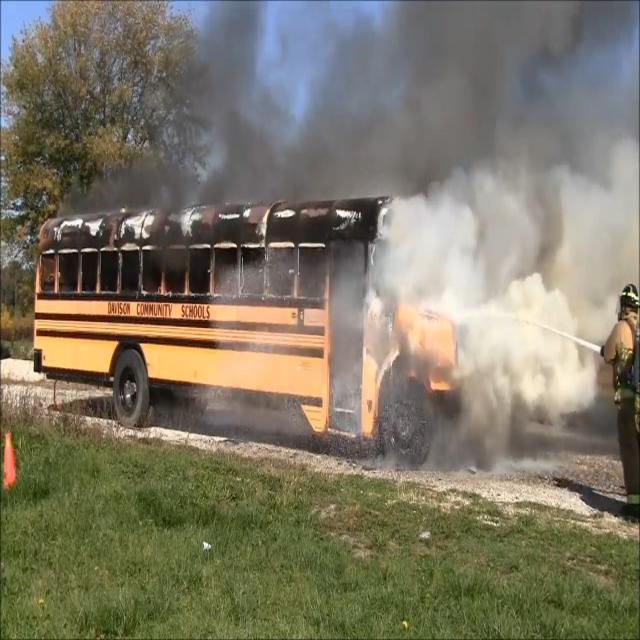Smoke: (370, 222, 620, 436)
